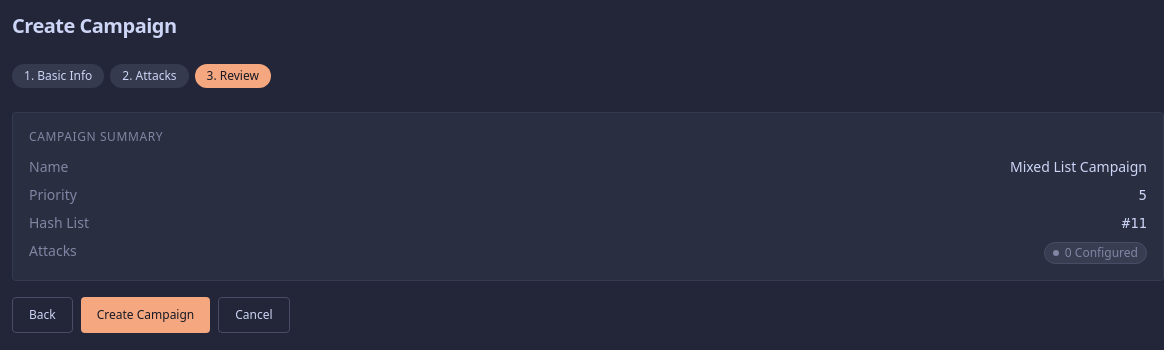
Test: CampaignCreatePage async split-pending -> status polling (issue #202 SU7) › shows the Analyzing panel on 202, then renders the review UI once the status poll reports ready
Click the button "Create Campaign" at x=146, y=315, box [81, 297, 210, 333]
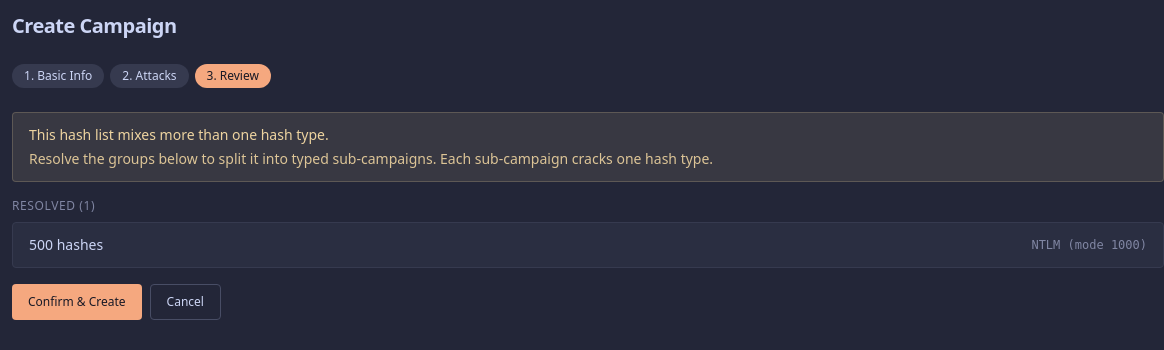
Check: the text "This hash list mixes more than one hash type." is shown, box [29, 125, 329, 144]
Check: the text "500 hashes" is shown, box [29, 235, 103, 255]
